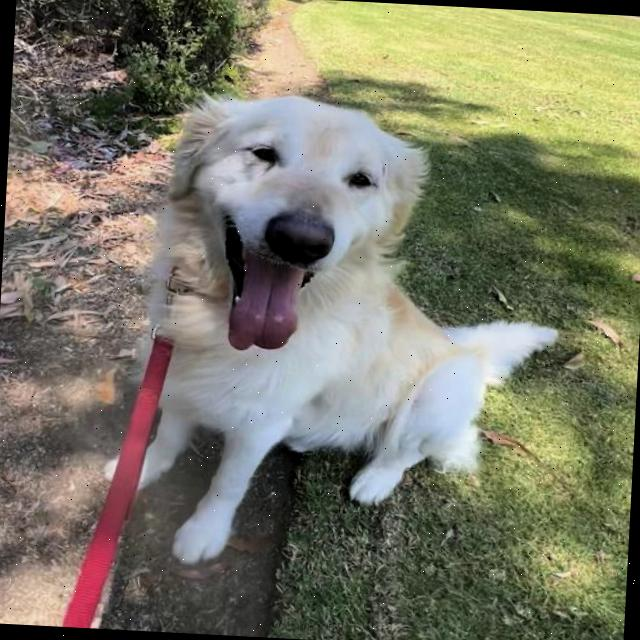golden_retriever_dog: (124, 64, 448, 372)
